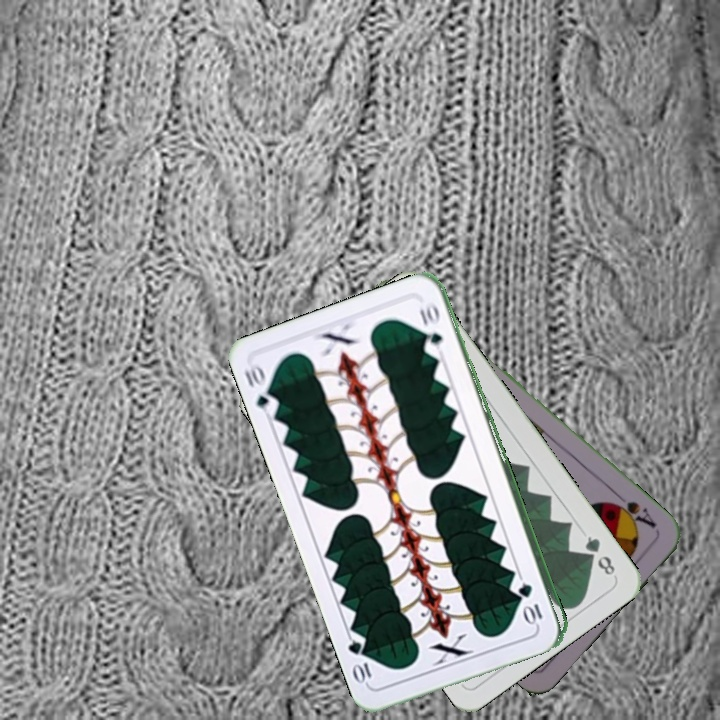G10: (241, 361, 282, 418), (517, 579, 545, 628)
G8: (580, 531, 618, 578)
SA: (605, 488, 659, 531)
